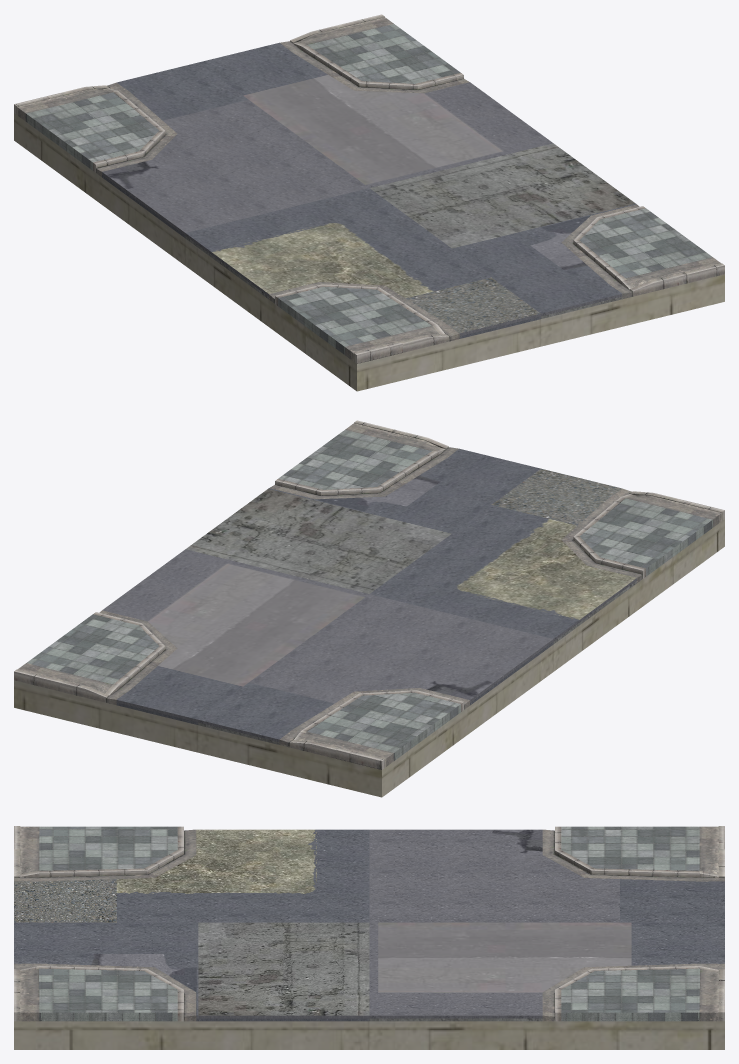
File: road_bc_joint02.fbx
3 renders of one model, top to bottom at view 1: azimuth 30°, elevation 25°; view 2: azimuth 150°, elevation 25°; view 3: azimuth 270°, elevation 25°, orthographic. The views are drawn at different scales.
Visible parts, largest first — view 1: road_bc_joint02; view 2: road_bc_joint02; view 3: road_bc_joint02.
Part boxes in pixels (x1,y1,x2,y2): road_bc_joint02: (14, 14, 724, 391); road_bc_joint02: (14, 420, 724, 797); road_bc_joint02: (14, 826, 724, 1049).
Size of the model in its own units: 700 by 66 by 1130.
